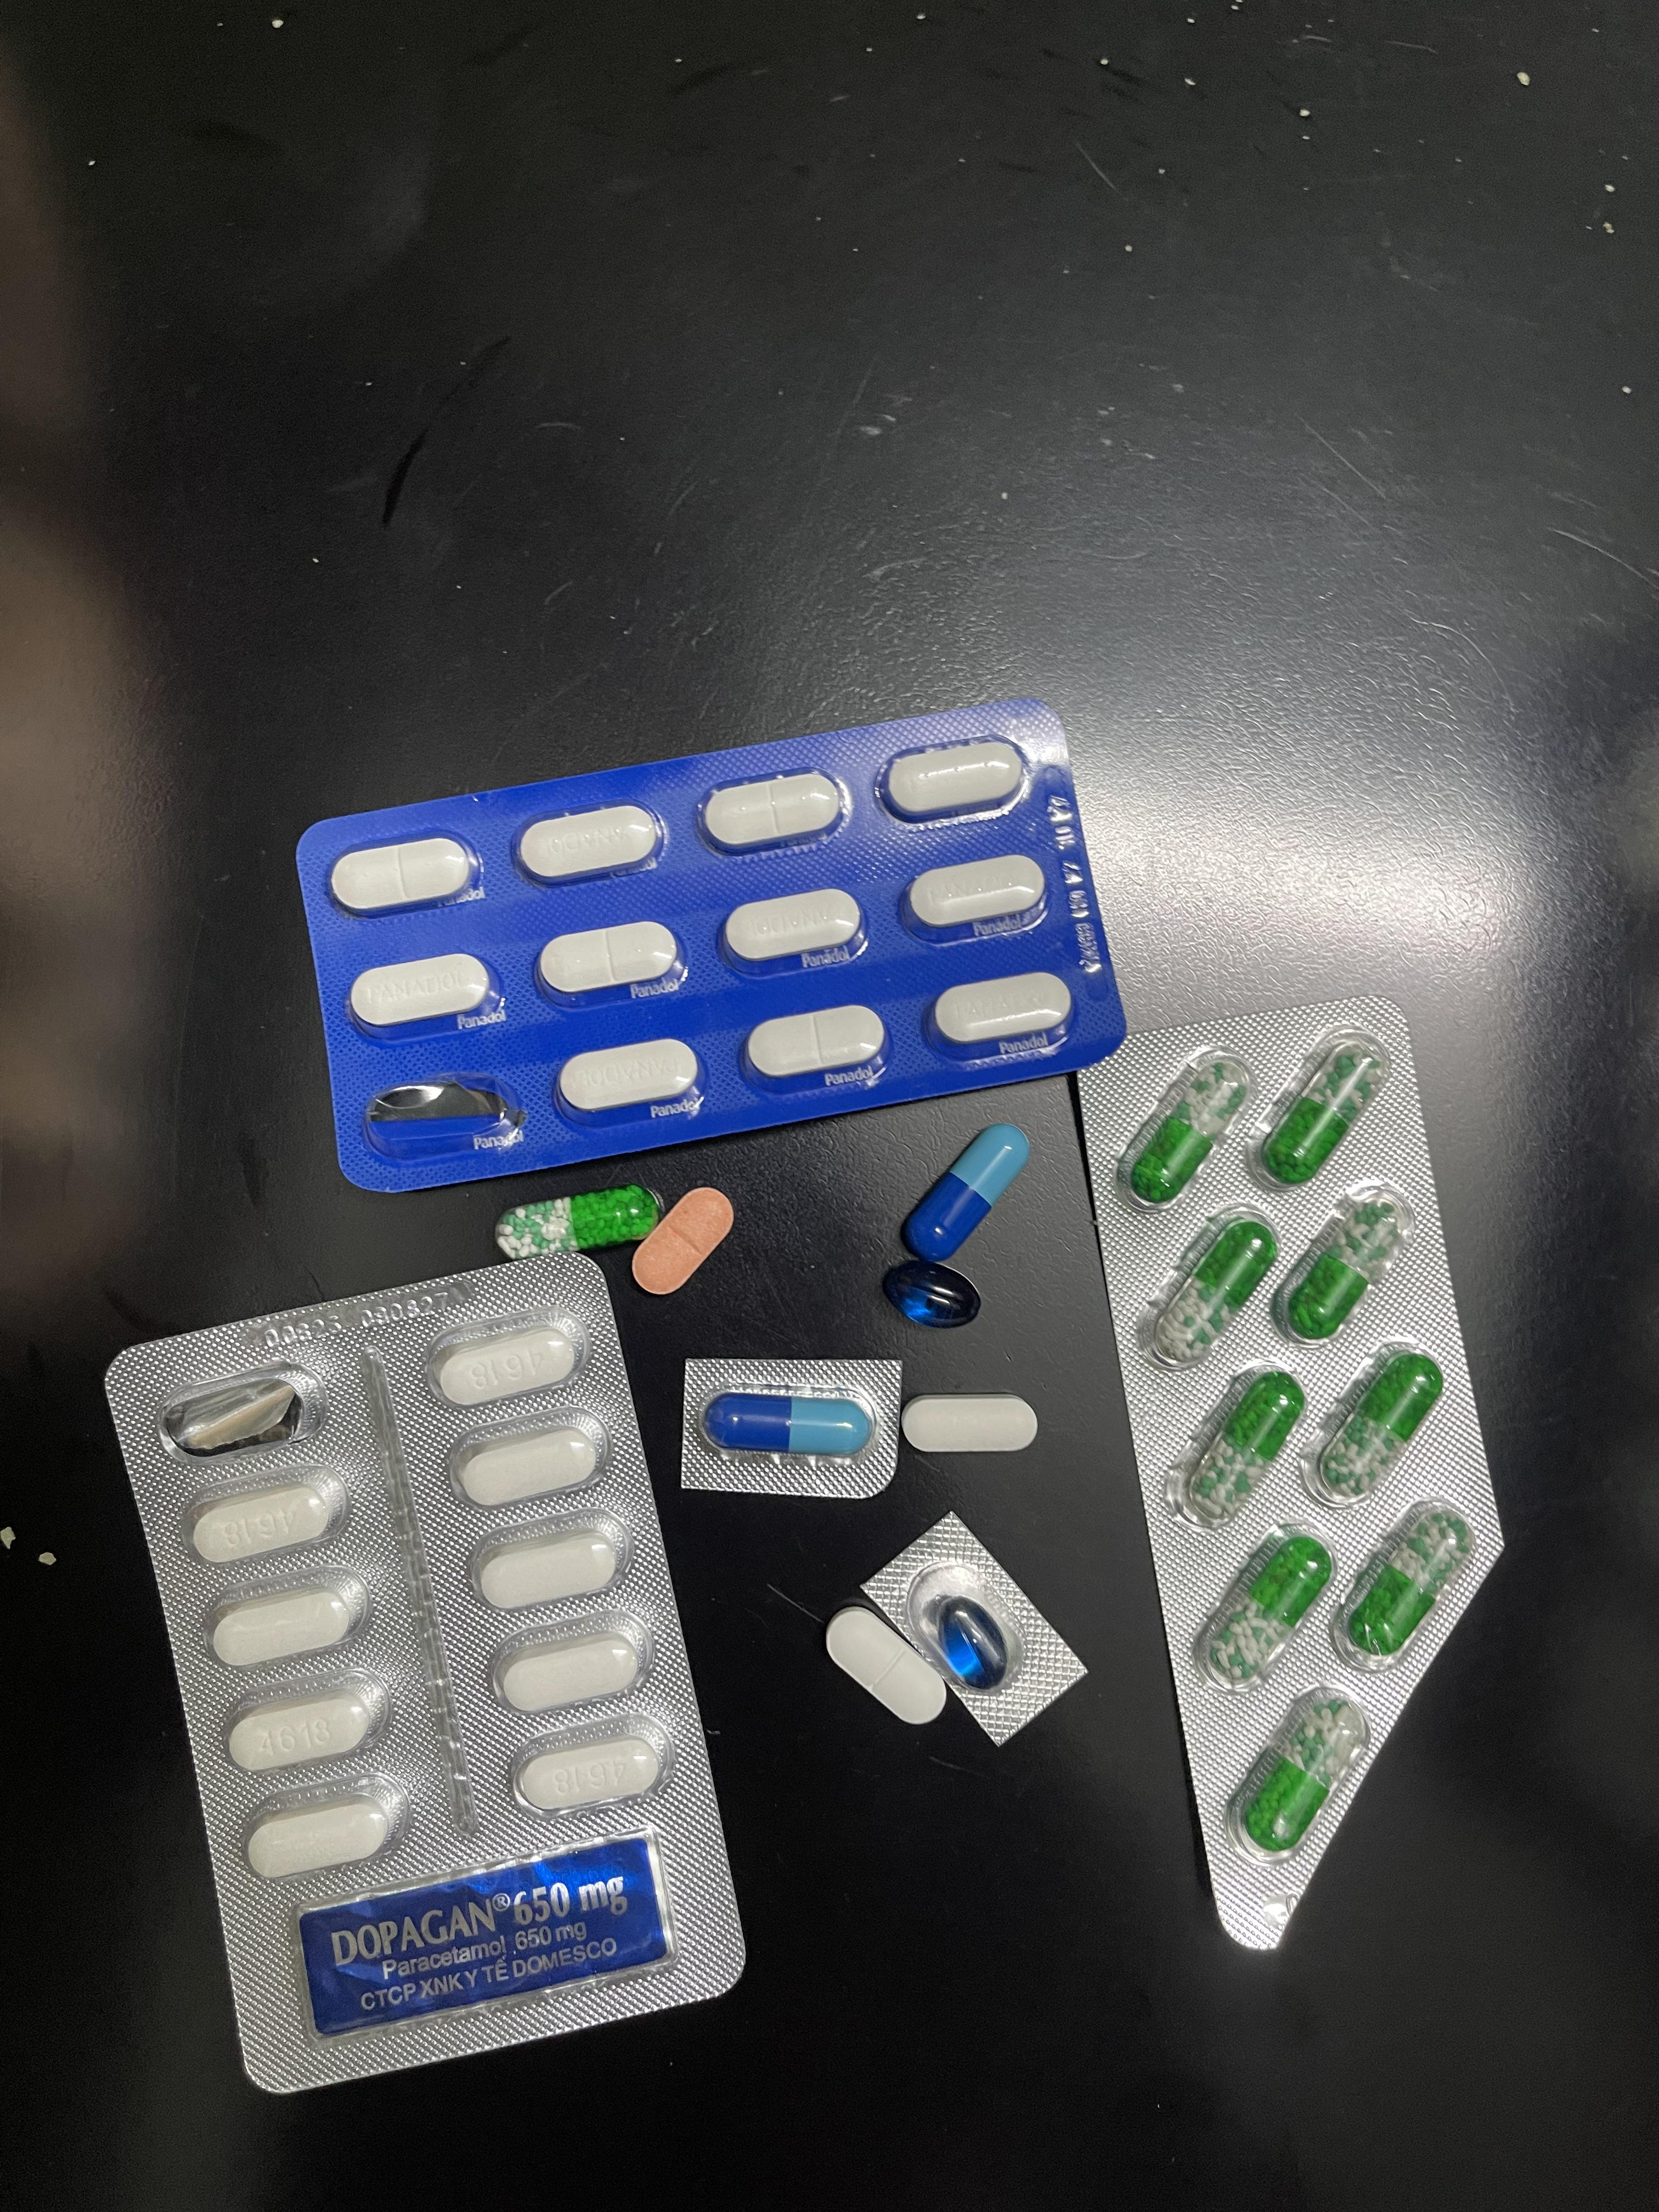Lincomyxin_500mg: (932, 1597, 1013, 1690), (879, 1257, 984, 1326)
Loratadine_10mg: (629, 1187, 734, 1295)
Paracetamol_350mg: (825, 1604, 949, 1728), (518, 801, 669, 886), (928, 969, 1074, 1056), (349, 951, 499, 1036), (538, 919, 687, 1003), (557, 1039, 706, 1122), (331, 835, 478, 917), (701, 770, 843, 854), (905, 854, 1048, 937), (884, 740, 1027, 820), (722, 888, 864, 968), (746, 1003, 884, 1085)
Paracetamol_500mg: (240, 1775, 410, 1878), (181, 1469, 347, 1571), (490, 1609, 652, 1709), (510, 1716, 669, 1816), (471, 1517, 630, 1613), (206, 1576, 365, 1669), (225, 1682, 383, 1776), (455, 1432, 601, 1510), (436, 1330, 578, 1407), (900, 1394, 1037, 1455)
Paracetamol_650mg: (1224, 1683, 1372, 1864), (1327, 1502, 1479, 1669), (1270, 1184, 1417, 1344), (1187, 1525, 1331, 1687), (1249, 1032, 1395, 1187), (1142, 1206, 1278, 1368), (1166, 1364, 1304, 1523), (1310, 1350, 1447, 1509), (1113, 1049, 1249, 1204), (497, 1184, 669, 1257)
pill: (902, 1123, 1032, 1264), (708, 1392, 867, 1458)
